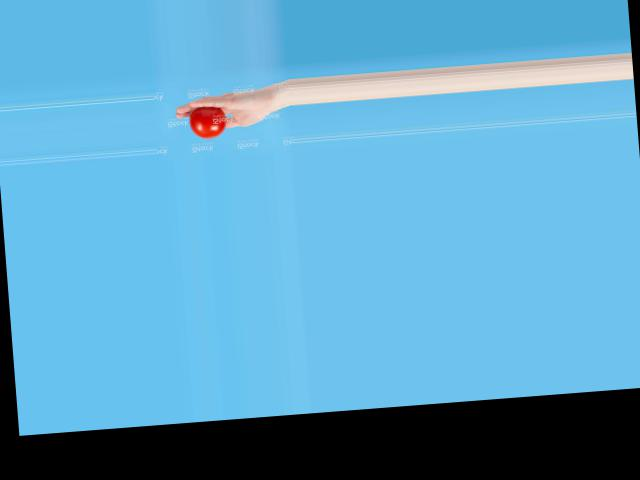tomato: (188, 105, 227, 139)
